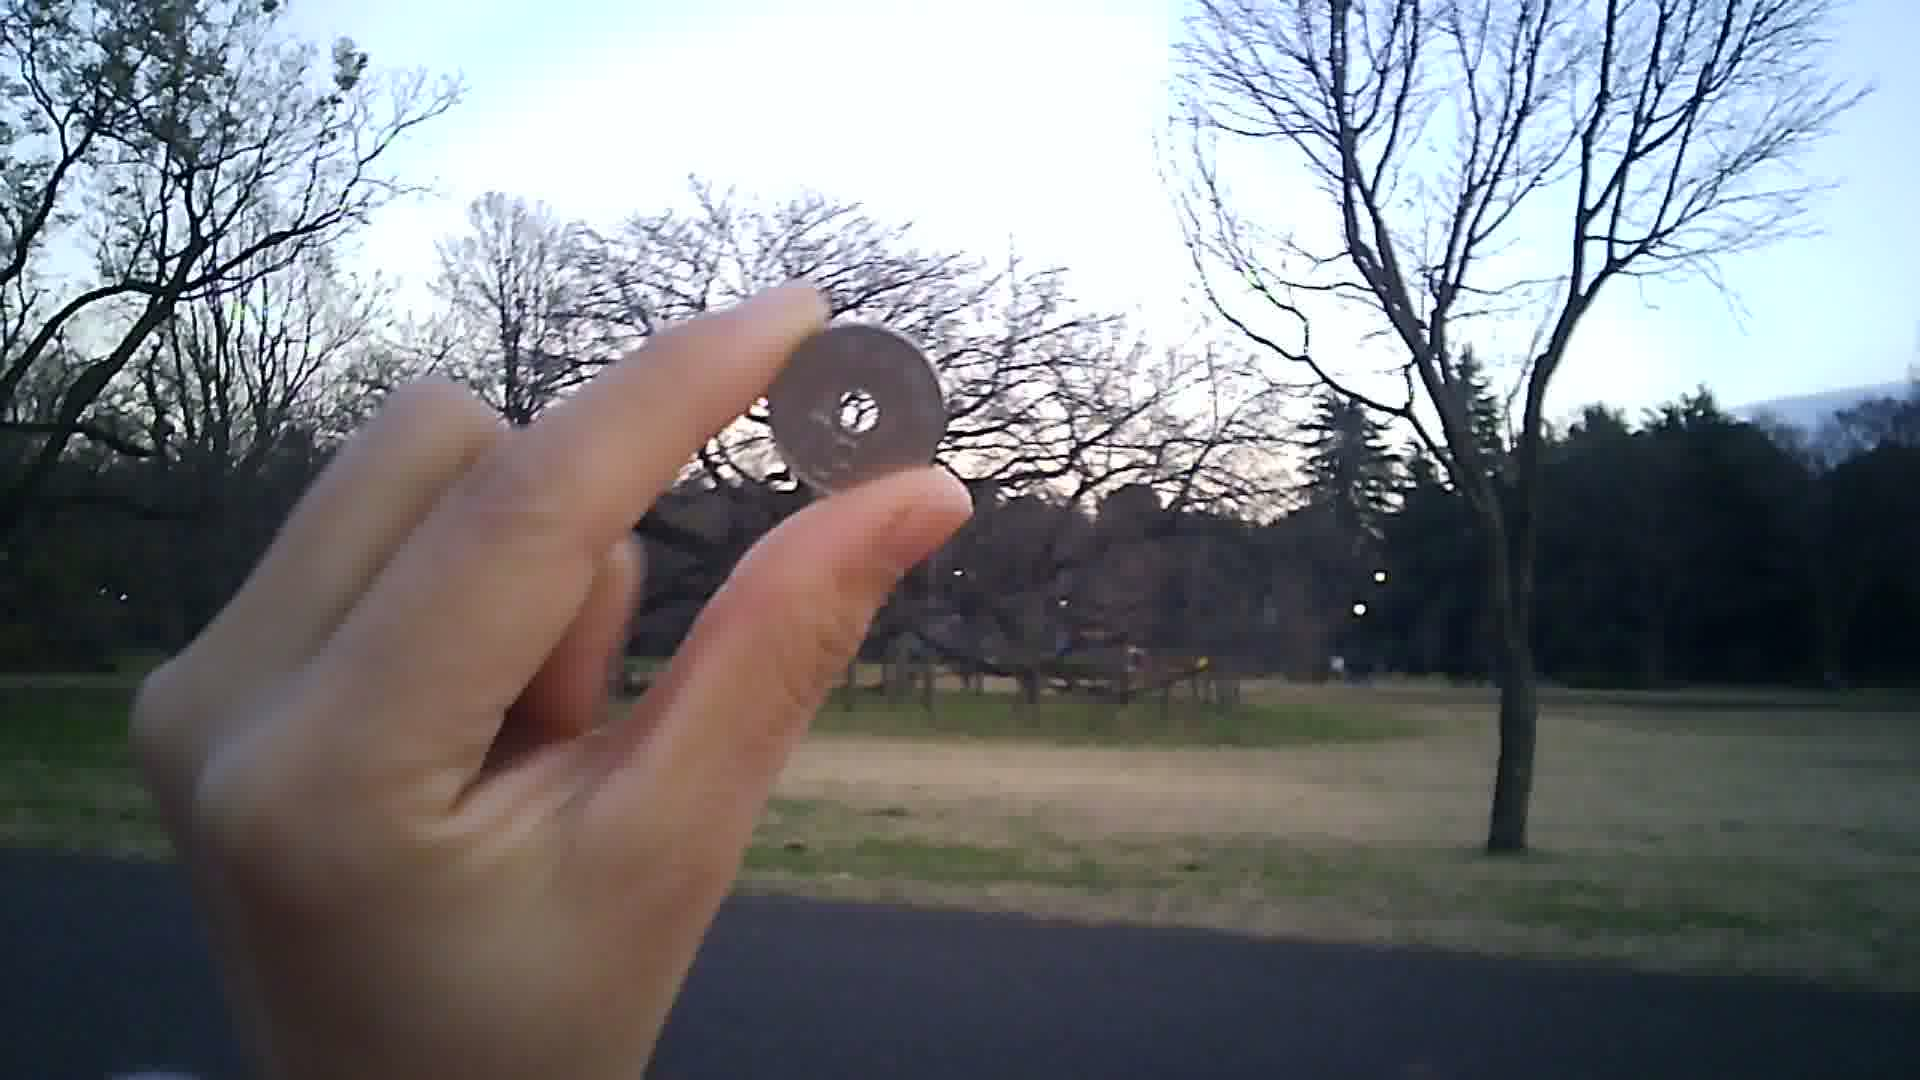50 Yen: (762, 320, 948, 500)
